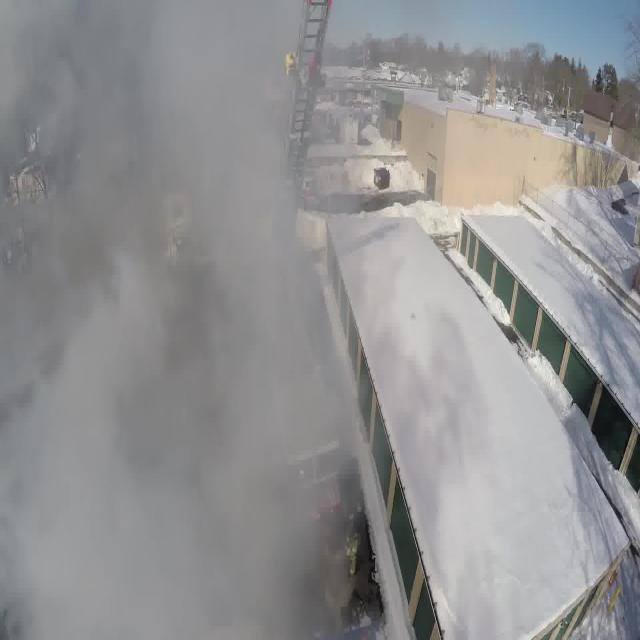smoke: (20, 16, 303, 604)
